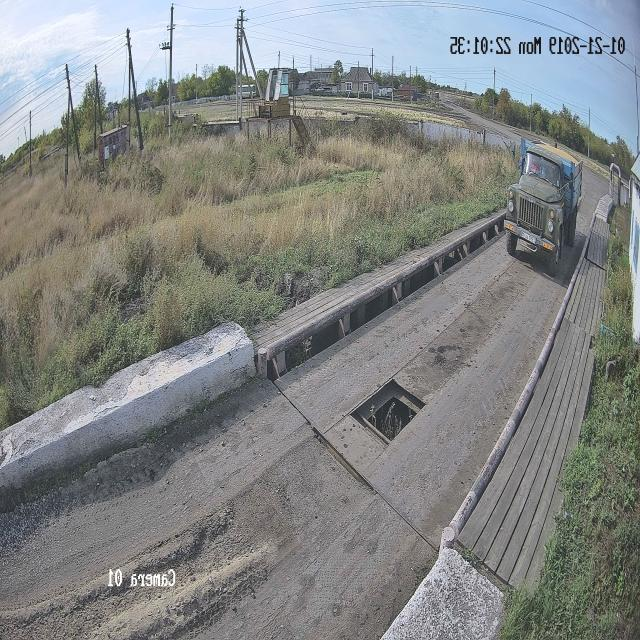license plate: (522, 230, 536, 243)
truck: (505, 138, 582, 275)
